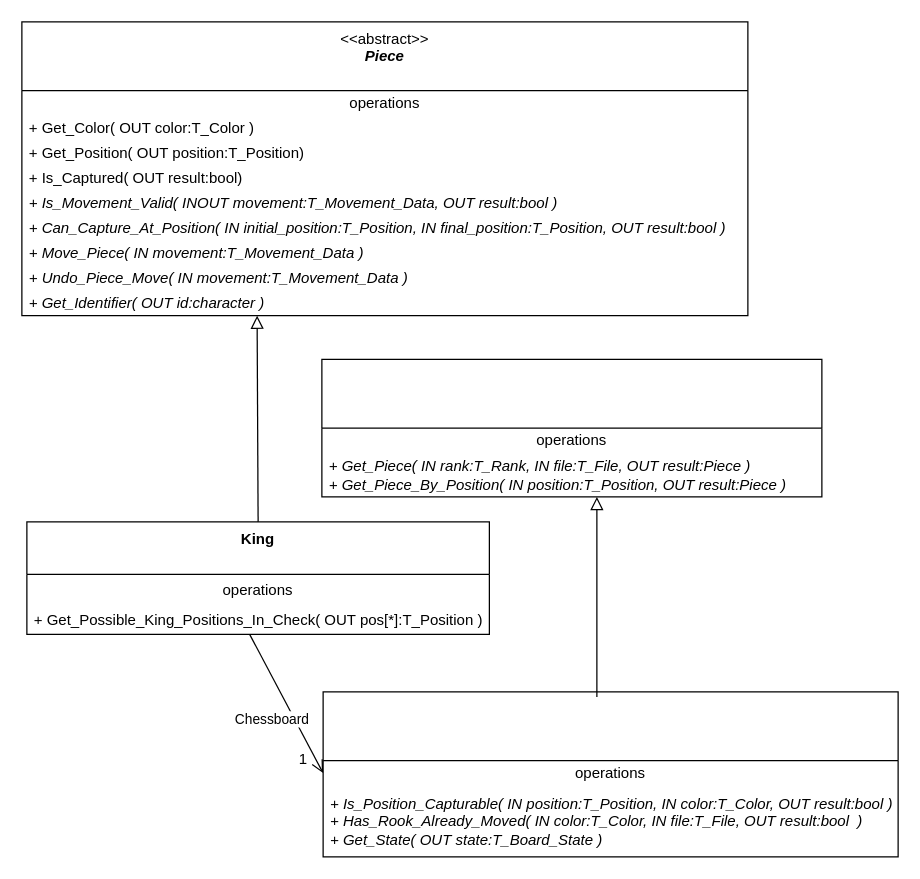
Image size: 920x879. Some labels were removed from this diagram. The box of each missing label's shape, as (x1, y1, x2, y2) in pixels:
<<interface>> Chessboard_King: (322, 691, 898, 857)
<<interface>> Chessboard_Piece: (321, 358, 822, 497)
